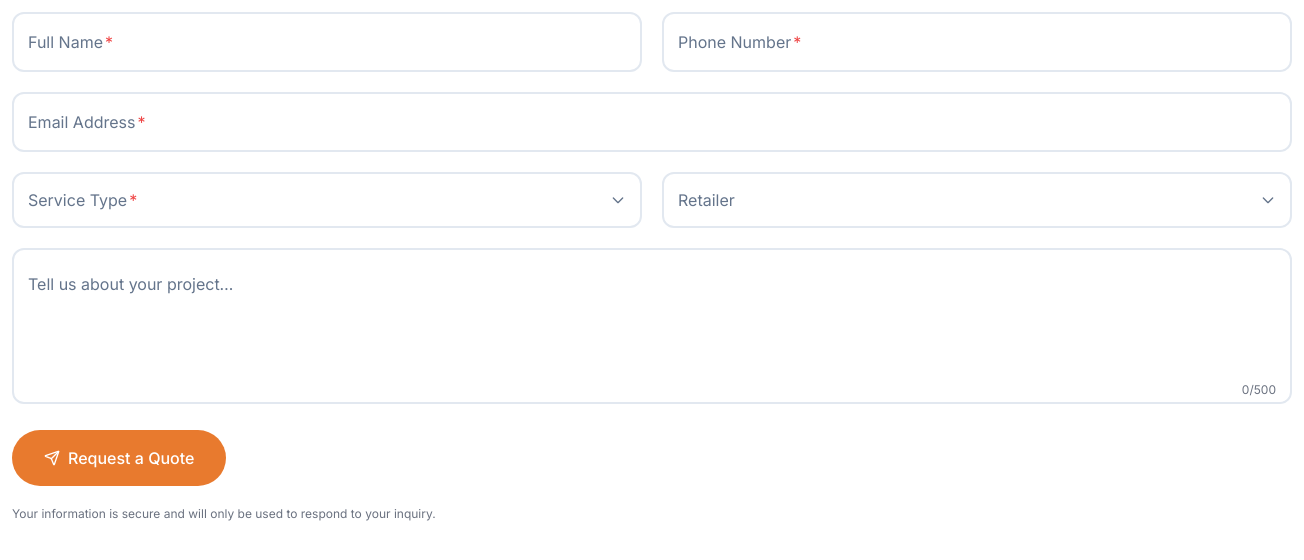
Test: ContactForm › validates name with minimum length
Type "A" into the field labelled "Full Name*" at (327,42), box [12, 12, 642, 72]
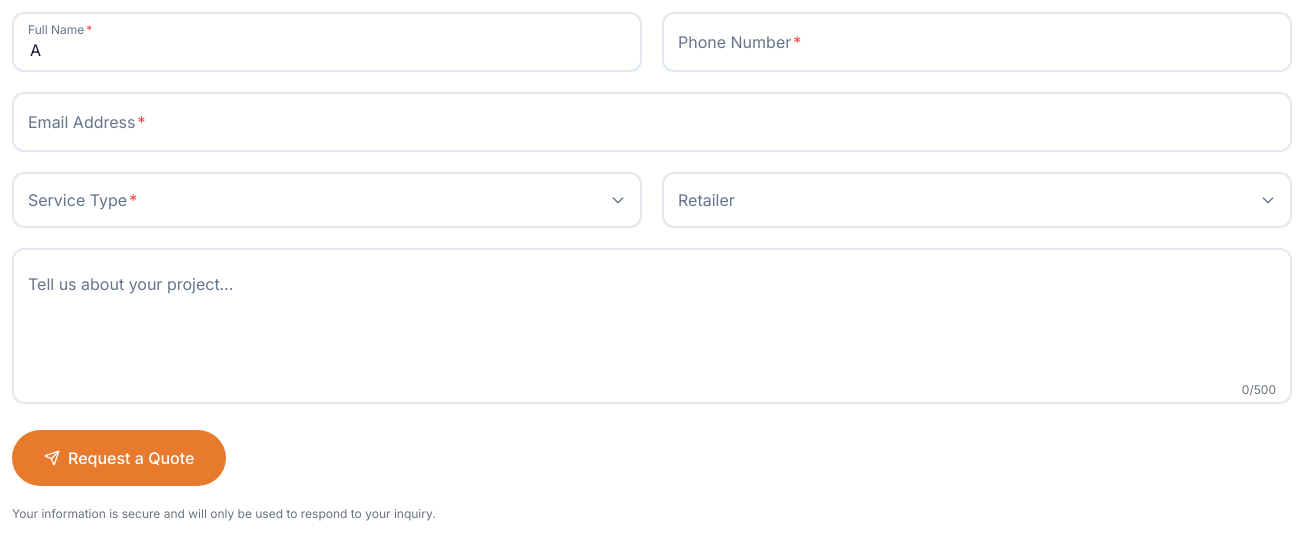
Leave the field labelled "Full Name*", box [12, 12, 642, 72]
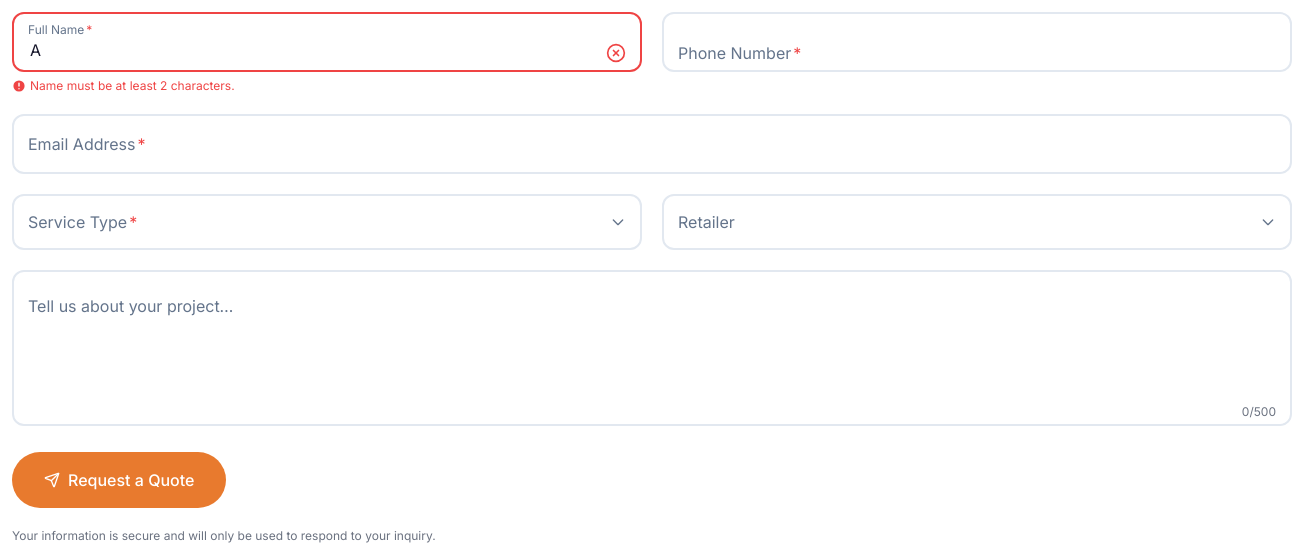
Check: the text "Name must be at least 2 characters." is shown, box [12, 78, 235, 93]
